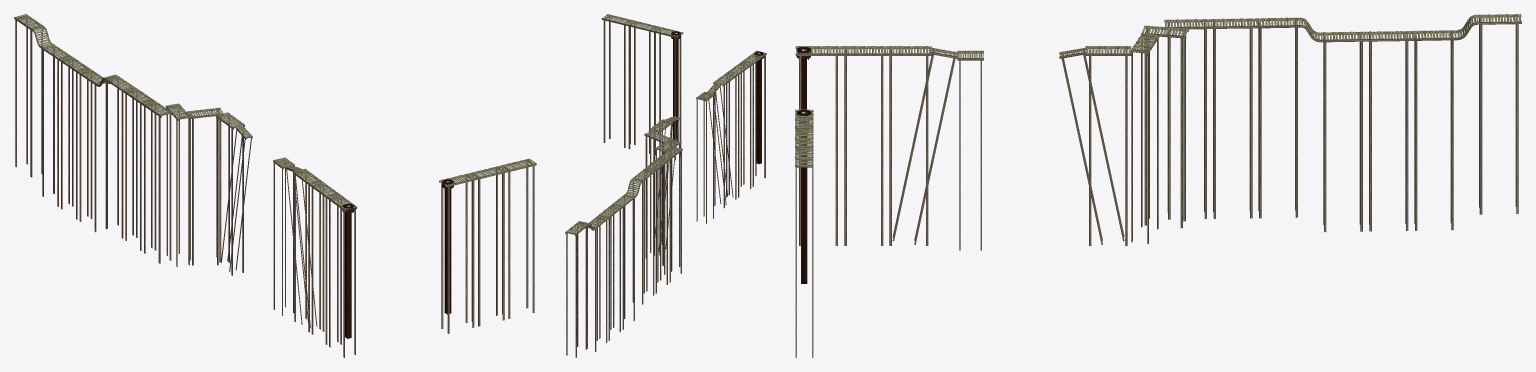
3 renders of one model, left to right at view 1: azimuth 30°, elevation 25°; view 2: azimuth 150°, elevation 25°; view 3: azimuth 270°, elevation 25°, orthographic. The views are drawn at different scales.
Parts seen in each view (by area): view 1: Ramp_001__53_, Ramp_001__23_, Ramp_001__54_, Ramp_001__25_, Ramp_001__51_, Ramp_001__52_, Ramp_001__51__1, Ramp_001__29_, Ramp_001__26_, Ramp_001__24_, Ramp_001__27_, Ramp_001__22_ (+9 smaller); view 2: Ramp_001__52_, Ramp_001__29_, Ramp_001__23_, Ramp_001__24_, Ramp_001__26_, Ramp_001__25_, Ramp_001__54_, Ramp_001__51_, Ramp_001__55_, Ramp_001__53_, Ramp_001__56_, Ramp_001__27_ (+10 smaller); view 3: Ramp_001__22_, Ramp_001__29_, Ramp_001__27_, Ramp_001__25_, Ramp_001__21_, Ramp_001__26_, Ramp_001__51__1, Ramp_001__24_, Ramp_001__23_, Ramp_001__20_, Ramp_001__54_, Ramp_001__56_ (+6 smaller).
Part boxes in pixels (bbox=[...]): Ramp_001__53_: bbox=[439, 173, 476, 333]; Ramp_001__23_: bbox=[142, 100, 172, 263]; Ramp_001__54_: bbox=[310, 181, 339, 344]; Ramp_001__25_: bbox=[78, 69, 108, 232]; Ramp_001__51_: bbox=[469, 166, 506, 326]; Ramp_001__52_: bbox=[500, 158, 536, 318]; Ramp_001__51__1: bbox=[105, 75, 135, 238]; Ramp_001__29_: bbox=[14, 14, 44, 177]; Ramp_001__26_: bbox=[60, 56, 89, 219]; Ramp_001__24_: bbox=[124, 87, 153, 250]; Ramp_001__27_: bbox=[41, 43, 70, 206]; Ramp_001__22_: bbox=[166, 103, 190, 266]; Ramp_001__52_: bbox=[601, 14, 632, 147]; Ramp_001__29_: bbox=[565, 221, 588, 357]; Ramp_001__23_: bbox=[659, 146, 682, 282]; Ramp_001__24_: bbox=[645, 157, 668, 293]; Ramp_001__26_: bbox=[598, 204, 621, 340]; Ramp_001__25_: bbox=[612, 193, 635, 329]; Ramp_001__54_: bbox=[728, 61, 751, 197]; Ramp_001__51_: bbox=[627, 20, 657, 153]; Ramp_001__55_: bbox=[742, 50, 766, 186]; Ramp_001__53_: bbox=[652, 26, 683, 160]; Ramp_001__56_: bbox=[713, 72, 737, 207]; Ramp_001__27_: bbox=[585, 215, 607, 351]; Ramp_001__22_: bbox=[1141, 25, 1189, 228]; Ramp_001__29_: bbox=[1475, 14, 1521, 214]; Ramp_001__27_: bbox=[1411, 30, 1456, 230]; Ramp_001__25_: bbox=[1320, 31, 1366, 232]; Ramp_001__21_: bbox=[1130, 33, 1159, 244]; Ramp_001__26_: bbox=[1365, 31, 1411, 231]; Ramp_001__51__1: bbox=[1255, 17, 1300, 218]; Ramp_001__24_: bbox=[1209, 18, 1255, 218]; Ramp_001__23_: bbox=[1164, 19, 1210, 219]; Ramp_001__20_: bbox=[1085, 46, 1131, 246]; Ramp_001__54_: bbox=[841, 46, 886, 245]; Ramp_001__56_: bbox=[886, 46, 931, 245].
Size of the model in its own units: 3970 by 2514 by 7975.
